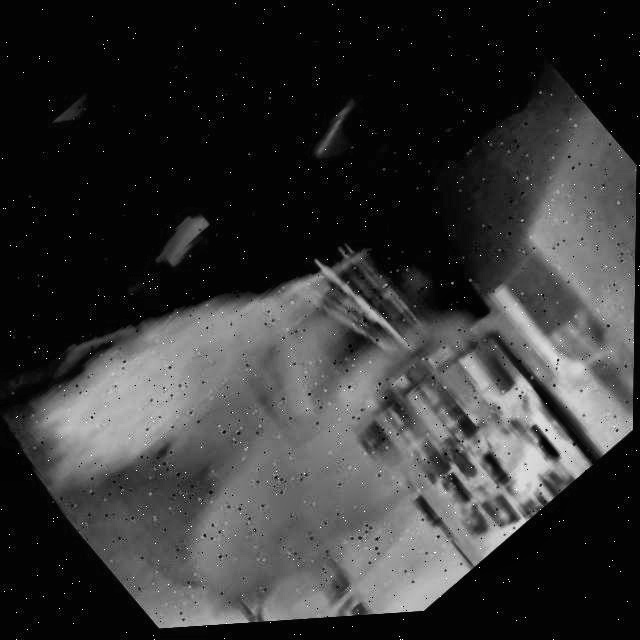Smoke: (0, 141, 572, 640)
